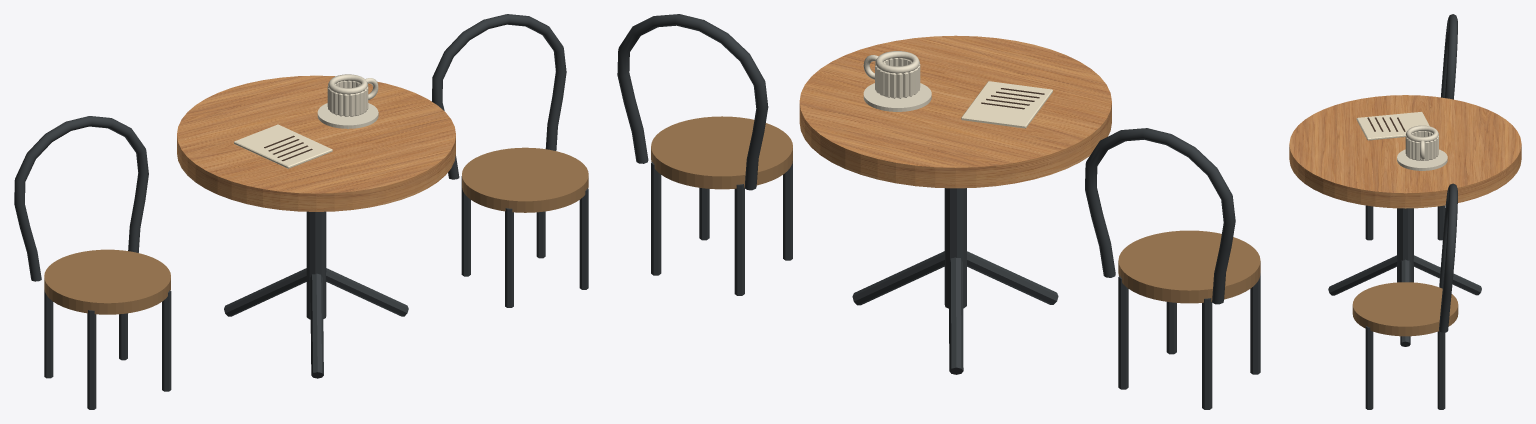
3 renders of one model, left to right at view 1: azimuth 30°, elevation 25°; view 2: azimuth 150°, elevation 25°; view 3: azimuth 270°, elevation 25°, orthographic. The views are drawn at different scales.
Visible parts, largest first — view 1: square_oak, square_iron, square_wood, square_cream, square_paper; view 2: square_oak, square_iron, square_wood, square_cream, square_paper; view 3: square_oak, square_iron, square_wood, square_cream, square_paper.
Part boxes in pixels (bbox=[...]): square_oak: bbox=[177, 75, 455, 211]; square_iron: bbox=[14, 14, 588, 409]; square_wood: bbox=[44, 147, 588, 314]; square_cream: bbox=[317, 74, 378, 128]; square_paper: bbox=[234, 124, 332, 168]; square_oak: bbox=[799, 35, 1111, 188]; square_iron: bbox=[617, 14, 1260, 409]; square_wood: bbox=[651, 116, 1260, 303]; square_cream: bbox=[863, 51, 931, 111]; square_paper: bbox=[961, 81, 1052, 128]; square_oak: bbox=[1289, 95, 1521, 208]; square_iron: bbox=[1328, 14, 1481, 409]; square_wood: bbox=[1352, 282, 1458, 336]; square_cream: bbox=[1397, 125, 1447, 170]; square_paper: bbox=[1356, 111, 1429, 140].
Size of the model in its own units: 2.51 by 1.08 by 1.1.
7 materials, 1 textured.
